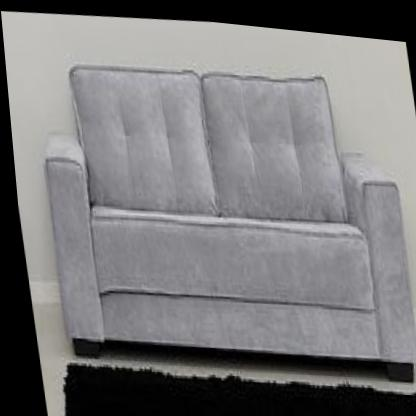Sofa: (25, 36, 416, 397)
